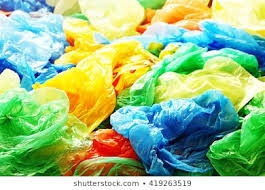plastic: (29, 31, 163, 132), (109, 85, 251, 175), (1, 85, 95, 175), (112, 35, 211, 107), (1, 5, 78, 77), (177, 17, 265, 70), (204, 108, 265, 177)
